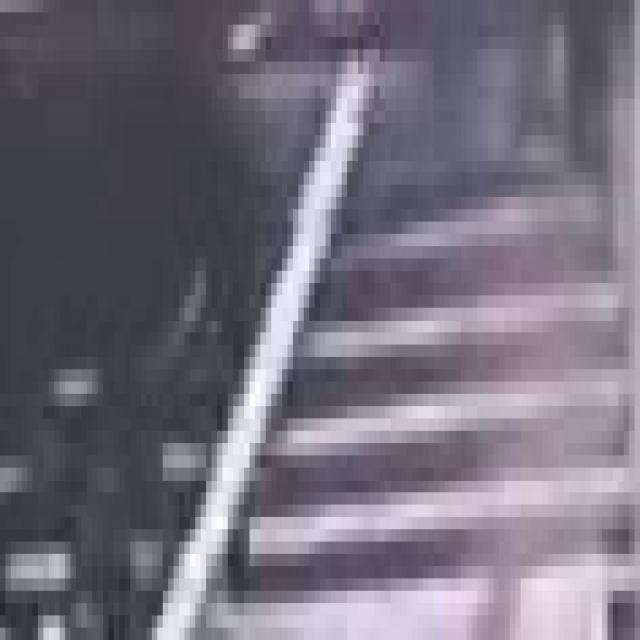stick: (136, 37, 380, 640)
